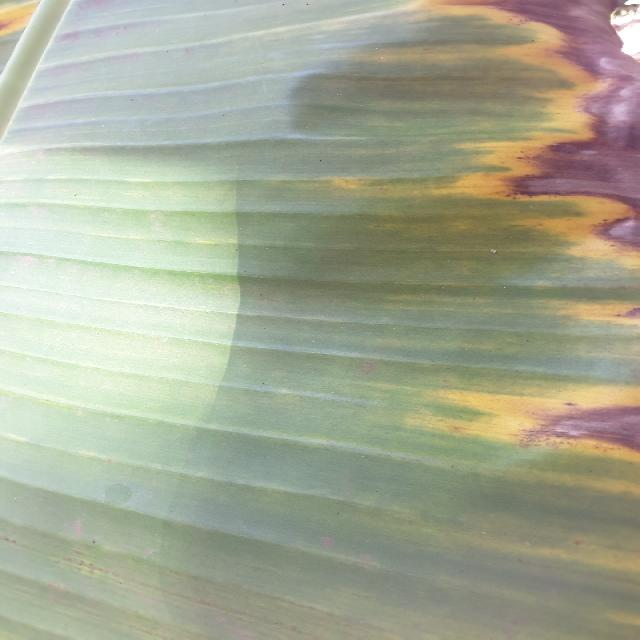Cordana: (237, 0, 640, 640), (0, 0, 80, 32)
